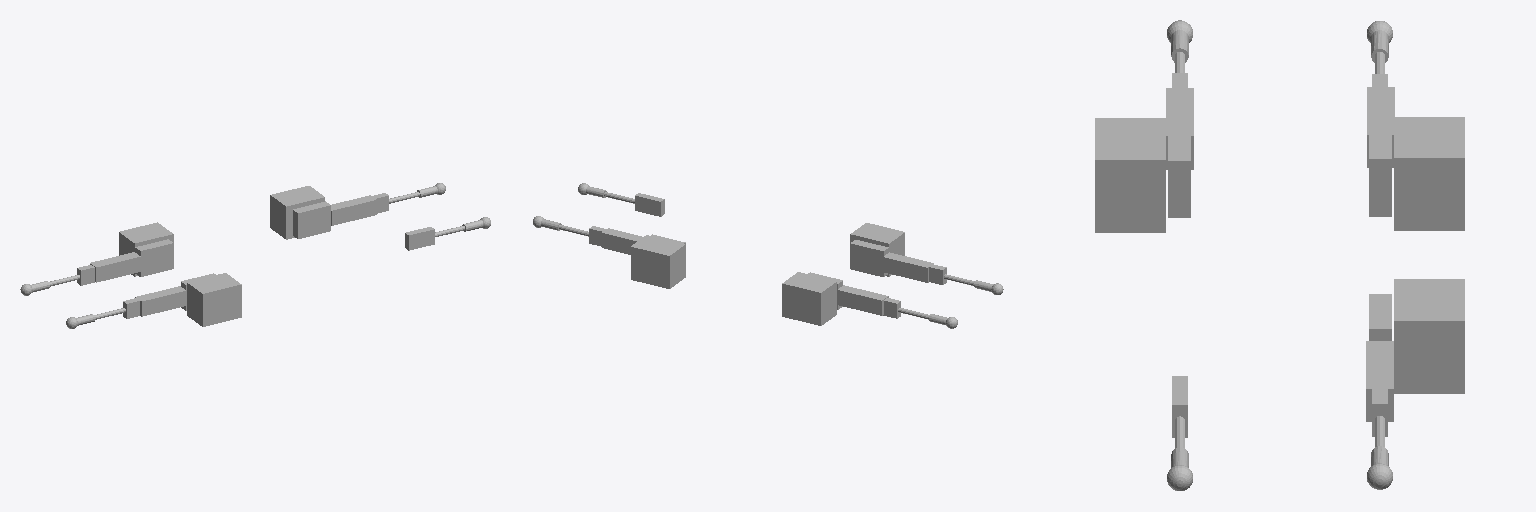
URDF robot description (ASTRo_urdf):
<?xml version="1.0" encoding="utf-8"?>
<!-- This URDF was automatically created by SolidWorks to URDF Exporter! Originally created by [author] ([email redacted]) 
     Commit Version: 1.6.0-1-g15f4949  Build Version: 1.6.7594.29634
     For more information, please see http://wiki.ros.org/sw_urdf_exporter -->
<robot
  name="ASTRo_urdf">
  <link
    name="base_link">
    <inertial>
      <origin
        xyz="0.0018303 -0.0022636 -0.024028"
        rpy="0 0 0" />
      <mass
        value="8.7385" />
      <inertia
        ixx="0.032841"
        ixy="2.8455E-08"
        ixz="5.1148E-07"
        iyy="0.030732"
        iyz="-1.2737E-05"
        izz="0.061662" />
    </inertial>
    <visual>
      <origin
        xyz="0 0 0"
        rpy="0 0 0" />
      <geometry>
        <mesh
          filename="package://ASTRo_urdf/collision_meshes/base_link.STL" />
      </geometry>
      <material
        name="">
        <color
          rgba="0.75294 0.75294 0.75294 1" />
      </material>
    </visual>
    <collision>
      <origin
        xyz="0 0 0"
        rpy="0 0 0" />
      <geometry>
        <mesh
          filename="package://ASTRo_urdf/collision_meshes/base_link.STL" />
      </geometry>
    </collision>
  </link>
  <link
    name="fl_hip">
    <inertial>
      <origin
        xyz="0.0531583210571163 0.0366039141275337 -0.0363361635572401"
        rpy="0 0 0" />
      <mass
        value="2.17455286863019" />
      <inertia
        ixx="0.00173280345342209"
        ixy="-6.19129847878754E-05"
        ixz="-1.21639437951916E-05"
        iyy="0.00206600212782451"
        iyz="6.94104691488328E-07"
        izz="0.00205370170154333" />
    </inertial>
    <visual>
      <origin
        xyz="0 0 0"
        rpy="0 0 0" />
      <geometry>
        <mesh
          filename="package://ASTRo_urdf/collision_meshes/fl_hip.STL" />
      </geometry>
      <material
        name="">
        <color
          rgba="0.752941176470588 0.752941176470588 0.752941176470588 1" />
      </material>
    </visual>
    <collision>
      <origin
        xyz="0 0 0"
        rpy="0 0 0" />
      <geometry>
        <mesh
          filename="package://ASTRo_urdf/collision_meshes/fl_hip.STL" />
      </geometry>
    </collision>
  </link>
  <joint
    name="fl_hip_yaw"
    type="revolute">
    <origin
      xyz="0.15121 0.15121 0"
      rpy="0 0 0" />
    <parent
      link="base_link" />
    <child
      link="fl_hip" />
    <axis
      xyz="0 0 1" />
    <limit
      lower="-0.7854"
      upper="1.5708"
      effort="40"
      velocity="1000" />
  </joint>
  <link
    name="fl_thigh">
    <inertial>
      <origin
        xyz="0.027738 -2.8924E-05 -0.048016"
        rpy="0 0 0" />
      <mass
        value="1.4824" />
      <inertia
        ixx="0.00087947"
        ixy="6.7403E-09"
        ixz="1.0751E-05"
        iyy="0.0011475"
        iyz="3.8014E-08"
        izz="0.0017228" />
    </inertial>
    <visual>
      <origin
        xyz="0 0 0"
        rpy="0 0 0" />
      <geometry>
        <mesh
          filename="package://ASTRo_urdf/collision_meshes/fl_thigh.STL" />
      </geometry>
      <material
        name="">
        <color
          rgba="0.75294 0.75294 0.75294 1" />
      </material>
    </visual>
    <collision>
      <origin
        xyz="0 0 0"
        rpy="0 0 0" />
      <geometry>
        <mesh
          filename="package://ASTRo_urdf/collision_meshes/fl_thigh.STL" />
      </geometry>
    </collision>
  </link>
  <joint
    name="fl_hip_pitch"
    type="revolute">
    <origin
      xyz="0.13 0.0755 -0.03875"
      rpy="-1.5708 0 0" />
    <parent
      link="fl_hip" />
    <child
      link="fl_thigh" />
    <axis
      xyz="0 0 1" />
    <limit
      lower="-1.5708"
      upper="1.5708"
      effort="40"
      velocity="1000" />
  </joint>
  <link
    name="fl_calf">
    <inertial>
      <origin
        xyz="0.31676 0.00044079 -0.07745"
        rpy="0 0 0" />
      <mass
        value="0.31062" />
      <inertia
        ixx="4.0837E-05"
        ixy="7.7987E-07"
        ixz="1.6622E-10"
        iyy="0.0002133"
        iyz="2.688E-10"
        izz="0.00022729" />
    </inertial>
    <visual>
      <origin
        xyz="0 0 0"
        rpy="0 0 0" />
      <geometry>
        <mesh
          filename="package://ASTRo_urdf/collision_meshes/fr_calf.STL" />
      </geometry>
      <material
        name="">
        <color
          rgba="0.75294 0.75294 0.75294 1" />
      </material>
    </visual>
    <collision>
      <origin
        xyz="0 0 0"
        rpy="0 0 0" />
      <geometry>
        <mesh
          filename="package://ASTRo_urdf/collision_meshes/fr_calf.STL" />
      </geometry>
    </collision>
  </link>
  <joint
    name="fl_knee_pitch"
    type="revolute">
    <origin
      xyz="0.222 0 -0.061"
      rpy="0 0 0" />
    <parent
      link="fl_thigh" />
    <child
      link="fl_calf" />
    <axis
      xyz="0 0 1" />
    <limit
      lower="-0.1"
      upper="2.3562"
      effort="40"
      velocity="1000" />
  </joint>
  <link
    name="fr_hip">
    <inertial>
      <origin
        xyz="0.0531763939958359 -0.03641981103807 -0.0363952498647838"
        rpy="0 0 0" />
      <mass
        value="2.18233968386848" />
      <inertia
        ixx="0.00173291318723781"
        ixy="6.12775165299127E-05"
        ixz="-1.21635823008675E-05"
        iyy="0.00206624802392487"
        iyz="6.94100265309046E-07"
        izz="0.00205394759437429" />
    </inertial>
    <visual>
      <origin
        xyz="0 0 0"
        rpy="0 0 0" />
      <geometry>
        <mesh
          filename="package://ASTRo_urdf/collision_meshes/fr_hip.STL" />
      </geometry>
      <material
        name="">
        <color
          rgba="0.752941176470588 0.752941176470588 0.752941176470588 1" />
      </material>
    </visual>
    <collision>
      <origin
        xyz="0 0 0"
        rpy="0 0 0" />
      <geometry>
        <mesh
          filename="package://ASTRo_urdf/collision_meshes/fr_hip.STL" />
      </geometry>
    </collision>
  </link>
  <joint
    name="fr_hip_yaw"
    type="revolute">
    <origin
      xyz="0.15121 -0.15121 0"
      rpy="0 0 0" />
    <parent
      link="base_link" />
    <child
      link="fr_hip" />
    <axis
      xyz="0 0 1" />
    <limit
      lower="-1.5708"
      upper="0.7854"
      effort="40"
      velocity="1000" />
  </joint>
  <link
    name="fr_thigh">
    <inertial>
      <origin
        xyz="0.0277372167220385 -0.000149652238160158 -0.0480163340760356"
        rpy="0 0 0" />
      <mass
        value="1.48239438165952" />
      <inertia
        ixx="0.000879475845940312"
        ixy="1.17351324544697E-06"
        ixz="1.07507726515436E-05"
        iyy="0.00114753637734785"
        iyz="-8.77874938440614E-09"
        izz="0.00172276896297423" />
    </inertial>
    <visual>
      <origin
        xyz="0 0 0"
        rpy="0 0 0" />
      <geometry>
        <mesh
          filename="package://ASTRo_urdf/collision_meshes/fr_thigh.STL" />
      </geometry>
      <material
        name="">
        <color
          rgba="0.752941176470588 0.752941176470588 0.752941176470588 1" />
      </material>
    </visual>
    <collision>
      <origin
        xyz="0 0 0"
        rpy="0 0 0" />
      <geometry>
        <mesh
          filename="package://ASTRo_urdf/collision_meshes/fr_thigh.STL" />
      </geometry>
    </collision>
  </link>
  <joint
    name="fr_hip_pitch"
    type="revolute">
    <origin
      xyz="0.13 -0.0755 -0.03875"
      rpy="1.5708 0 0" />
    <parent
      link="fr_hip" />
    <child
      link="fr_thigh" />
    <axis
      xyz="0 0 1" />
    <limit
      lower="-1.5708"
      upper="1.5708"
      effort="40"
      velocity="1000" />
  </joint>
  <link
    name="fr_calf">
    <inertial>
      <origin
        xyz="0.0948140635086356 -0.000614776009034035 -0.0165503017818016"
        rpy="0 0 0" />
      <mass
        value="0.310621805212083" />
      <inertia
        ixx="4.08365237189535E-05"
        ixy="-7.79868537659727E-07"
        ixz="-1.65503809227098E-10"
        iyy="0.00021330337430835"
        iyz="2.68862310727803E-10"
        izz="0.000227294886976432" />
    </inertial>
    <visual>
      <origin
        xyz="0 0 0"
        rpy="0 0 0" />
      <geometry>
        <mesh
          filename="package://ASTRo_urdf/collision_meshes/fr_calf.STL" />
      </geometry>
      <material
        name="">
        <color
          rgba="0.752941176470588 0.752941176470588 0.752941176470588 1" />
      </material>
    </visual>
    <collision>
      <origin
        xyz="0 0 0"
        rpy="0 0 0" />
      <geometry>
        <mesh
          filename="package://ASTRo_urdf/collision_meshes/fr_calf.STL" />
      </geometry>
    </collision>
  </link>
  <joint
    name="fr_knee_pitch"
    type="revolute">
    <origin
      xyz="0.22194 -0.00114 -0.061"
      rpy="0 0 -0.0043525" />
    <parent
      link="fr_thigh" />
    <child
      link="fr_calf" />
    <axis
      xyz="0 0 1" />
    <limit
      lower="-2.3562"
      upper="0.1"
      effort="40"
      velocity="1000" />
  </joint>
  <link
    name="rl_hip">
    <inertial>
      <origin
        xyz="0.0531763939958355 -0.0364198110380691 -0.036395249864784"
        rpy="0 0 0" />
      <mass
        value="2.18233968386848" />
      <inertia
        ixx="0.00173291318723781"
        ixy="6.12775165299124E-05"
        ixz="-1.21635823008672E-05"
        iyy="0.00206624802392487"
        iyz="6.94100265308955E-07"
        izz="0.00205394759437429" />
    </inertial>
    <visual>
      <origin
        xyz="0 0 0"
        rpy="0 0 0" />
      <geometry>
        <mesh
          filename="package://ASTRo_urdf/collision_meshes/rl_hip.STL" />
      </geometry>
      <material
        name="">
        <color
          rgba="0.752941176470588 0.752941176470588 0.752941176470588 1" />
      </material>
    </visual>
    <collision>
      <origin
        xyz="0 0 0"
        rpy="0 0 0" />
      <geometry>
        <mesh
          filename="package://ASTRo_urdf/collision_meshes/rl_hip.STL" />
      </geometry>
    </collision>
  </link>
  <joint
    name="rl_hip_yaw"
    type="revolute">
    <origin
      xyz="-0.15121 0.15121 0"
      rpy="0 0 3.1416" />
    <parent
      link="base_link" />
    <child
      link="rl_hip" />
    <axis
      xyz="0 0 1" />
    <limit
      lower="-1.5708"
      upper="0.7854"
      effort="40"
      velocity="1000" />
  </joint>
  <link
    name="rl_thigh">
    <inertial>
      <origin
        xyz="0.0277376055025215 -2.89239417923803E-05 -0.0480163343184047"
        rpy="0 0 0" />
      <mass
        value="1.48239439114501" />
      <inertia
        ixx="0.000879470709552469"
        ixy="6.74033378943963E-09"
        ixz="1.07507095507878E-05"
        iyy="0.00114754151657931"
        iyz="3.80142785229693E-08"
        izz="0.00172276896468826" />
    </inertial>
    <visual>
      <origin
        xyz="0 0 0"
        rpy="0 0 0" />
      <geometry>
        <mesh
          filename="package://ASTRo_urdf/collision_meshes/rl_thigh.STL" />
      </geometry>
      <material
        name="">
        <color
          rgba="0.752941176470588 0.752941176470588 0.752941176470588 1" />
      </material>
    </visual>
    <collision>
      <origin
        xyz="0 0 0"
        rpy="0 0 0" />
      <geometry>
        <mesh
          filename="package://ASTRo_urdf/collision_meshes/rl_thigh.STL" />
      </geometry>
    </collision>
  </link>
  <joint
    name="rl_hip_pitch"
    type="revolute">
    <origin
      xyz="0.13 -0.0755 -0.03875"
      rpy="1.5708 0 0" />
    <parent
      link="rl_hip" />
    <child
      link="rl_thigh" />
    <axis
      xyz="0 0 1" />
    <limit
      lower="-1.5708"
      upper="1.5708"
      effort="40"
      velocity="1000" />
  </joint>
  <link
    name="rl_calf">
    <inertial>
      <origin
        xyz="0.0948140624508792 0.000614775850863336 -0.0164496981749044"
        rpy="0 0 0" />
      <mass
        value="0.310621800156452" />
      <inertia
        ixx="4.08365242898525E-05"
        ixy="7.79868437361702E-07"
        ixz="1.66215196374788E-10"
        iyy="0.000213303367897618"
        iyz="2.68800644674563E-10"
        izz="0.000227294880780061" />
    </inertial>
    <visual>
      <origin
        xyz="0 0 0"
        rpy="0 0 0" />
      <geometry>
        <mesh
          filename="package://ASTRo_urdf/collision_meshes/rl_calf.STL" />
      </geometry>
      <material
        name="">
        <color
          rgba="0.752941176470588 0.752941176470588 0.752941176470588 1" />
      </material>
    </visual>
    <collision>
      <origin
        xyz="0 0 0"
        rpy="0 0 0" />
      <geometry>
        <mesh
          filename="package://ASTRo_urdf/collision_meshes/rl_calf.STL" />
      </geometry>
    </collision>
  </link>
  <joint
    name="rl_knee_pitch"
    type="revolute">
    <origin
      xyz="0.22194 -0.00017398 -0.061"
      rpy="0 0 0" />
    <parent
      link="rl_thigh" />
    <child
      link="rl_calf" />
    <axis
      xyz="0 0 1" />
    <limit
      lower="-2.3562"
      upper="0.1"
      effort="40"
      velocity="1000" />
  </joint>
  <link
    name="rr_hip">
    <inertial>
      <origin
        xyz="0.0531583210571163 0.0366039141275338 -0.0363361635572398"
        rpy="0 0 0" />
      <mass
        value="2.17455286863019" />
      <inertia
        ixx="0.00173280345342208"
        ixy="-6.19129847878762E-05"
        ixz="-1.2163943795192E-05"
        iyy="0.00206600212782451"
        iyz="6.9410469148802E-07"
        izz="0.00205370170154332" />
    </inertial>
    <visual>
      <origin
        xyz="0 0 0"
        rpy="0 0 0" />
      <geometry>
        <mesh
          filename="package://ASTRo_urdf/collision_meshes/rr_hip.STL" />
      </geometry>
      <material
        name="">
        <color
          rgba="0.752941176470588 0.752941176470588 0.752941176470588 1" />
      </material>
    </visual>
    <collision>
      <origin
        xyz="0 0 0"
        rpy="0 0 0" />
      <geometry>
        <mesh
          filename="package://ASTRo_urdf/collision_meshes/rr_hip.STL" />
      </geometry>
    </collision>
  </link>
  <joint
    name="rr_hip_yaw"
    type="revolute">
    <origin
      xyz="-0.15121 -0.15121 0"
      rpy="0 0 3.1416" />
    <parent
      link="base_link" />
    <child
      link="rr_hip" />
    <axis
      xyz="0 0 1" />
    <limit
      lower="-0.7854"
      upper="1.5708"
      effort="40"
      velocity="1000" />
  </joint>
  <link
    name="rr_thigh">
    <inertial>
      <origin
        xyz="0.0277376055953963 -2.89239103958838E-05 -0.0480163341374775"
        rpy="0 0 0" />
      <mass
        value="1.48239438395037" />
      <inertia
        ixx="0.000879470708893672"
        ixy="6.74027458555017E-09"
        ixz="1.07507093818394E-05"
        iyy="0.00114754151588376"
        iyz="3.80143535091579E-08"
        izz="0.00172276896466383" />
    </inertial>
    <visual>
      <origin
        xyz="0 0 0"
        rpy="0 0 0" />
      <geometry>
        <mesh
          filename="package://ASTRo_urdf/collision_meshes/rr_thigh.STL" />
      </geometry>
      <material
        name="">
        <color
          rgba="0.752941176470588 0.752941176470588 0.752941176470588 1" />
      </material>
    </visual>
    <collision>
      <origin
        xyz="0 0 0"
        rpy="0 0 0" />
      <geometry>
        <mesh
          filename="package://ASTRo_urdf/collision_meshes/rr_thigh.STL" />
      </geometry>
    </collision>
  </link>
  <joint
    name="rr_hip_pitch"
    type="revolute">
    <origin
      xyz="0.13 0.0755 -0.03875"
      rpy="-1.5708 0 0" />
    <parent
      link="rr_hip" />
    <child
      link="rr_thigh" />
    <axis
      xyz="0 0 1" />
    <limit
      lower="-1.5708"
      upper="1.5708"
      effort="40"
      velocity="1000" />
  </joint>
  <link
    name="rr_calf">
    <inertial>
      <origin
        xyz="0.0948140623926746 0.000614775847208981 -0.0164496981767596"
        rpy="0 0 0" />
      <mass
        value="0.310621799877947" />
      <inertia
        ixx="4.08365242945811E-05"
        ixy="7.79868417963329E-07"
        ixz="1.66211905736855E-10"
        iyy="0.000213303367890616"
        iyz="2.68796940480024E-10"
        izz="0.00022729488077842" />
    </inertial>
    <visual>
      <origin
        xyz="0 0 0"
        rpy="0 0 0" />
      <geometry>
        <mesh
          filename="package://ASTRo_urdf/collision_meshes/rr_calf.STL" />
      </geometry>
      <material
        name="">
        <color
          rgba="0.752941176470588 0.752941176470588 0.752941176470588 1" />
      </material>
    </visual>
    <collision>
      <origin
        xyz="0 0 0"
        rpy="0 0 0" />
      <geometry>
        <mesh
          filename="package://ASTRo_urdf/collision_meshes/rr_calf.STL" />
      </geometry>
    </collision>
  </link>
  <joint
    name="rr_knee_pitch"
    type="revolute">
    <origin
      xyz="0.22194 -0.00017398 -0.061"
      rpy="0 0 0" />
    <parent
      link="rr_thigh" />
    <child
      link="rr_calf" />
    <axis
      xyz="0 0 1" />
    <limit
      lower="-0.1"
      upper="2.3562"
      effort="40"
      velocity="1000" />
  </joint>

  <transmission name="fl_hip_yaw_trans" type="pr2_mechanism_model/SimpleTransmission">
    <actuator name="fl_hip_yaw_motor"/>
    <joint name="fl_hip_yaw"/>
    <mechanicalReduction>1</mechanicalReduction>
  </transmission>

  <transmission name="fl_hip_pitch_trans" type="pr2_mechanism_model/SimpleTransmission">
    <actuator name="fl_hip_pitch_motor"/>
    <joint name="fl_hip_pitch"/>
    <mechanicalReduction>1</mechanicalReduction>
  </transmission>

  <transmission name="fl_knee_pitch_trans" type="pr2_mechanism_model/SimpleTransmission">
    <actuator name="fl_knee_pitch_motor"/>
    <joint name="fl_knee_pitch"/>
    <mechanicalReduction>1</mechanicalReduction>
  </transmission>

  <transmission name="fr_hip_yaw_trans" type="pr2_mechanism_model/SimpleTransmission">
    <actuator name="fr_hip_yaw_motor"/>
    <joint name="fr_hip_yaw"/>
    <mechanicalReduction>1</mechanicalReduction>
  </transmission>

  <transmission name="fr_hip_pitch_trans" type="pr2_mechanism_model/SimpleTransmission">
    <actuator name="fr_hip_pitch_motor"/>
    <joint name="fr_hip_pitch"/>
    <mechanicalReduction>1</mechanicalReduction>
  </transmission>

  <transmission name="fr_knee_pitch_trans" type="pr2_mechanism_model/SimpleTransmission">
    <actuator name="fr_knee_pitch_motor"/>
    <joint name="fr_knee_pitch"/>
    <mechanicalReduction>1</mechanicalReduction>
  </transmission>

  <transmission name="rl_hip_yaw_trans" type="pr2_mechanism_model/SimpleTransmission">
    <actuator name="rl_hip_yaw_motor"/>
    <joint name="rl_hip_yaw"/>
    <mechanicalReduction>1</mechanicalReduction>
  </transmission>

  <transmission name="rl_hip_pitch_trans" type="pr2_mechanism_model/SimpleTransmission">
    <actuator name="rl_hip_pitch_motor"/>
    <joint name="rl_hip_pitch"/>
    <mechanicalReduction>1</mechanicalReduction>
  </transmission>

  <transmission name="rl_knee_pitch_trans" type="pr2_mechanism_model/SimpleTransmission">
    <actuator name="rl_knee_pitch_motor"/>
    <joint name="rl_knee_pitch"/>
    <mechanicalReduction>1</mechanicalReduction>
  </transmission>

  <transmission name="rr_hip_yaw_trans" type="pr2_mechanism_model/SimpleTransmission">
    <actuator name="rr_hip_yaw_motor"/>
    <joint name="rr_hip_yaw"/>
    <mechanicalReduction>1</mechanicalReduction>
  </transmission>

  <transmission name="rr_hip_pitch_trans" type="pr2_mechanism_model/SimpleTransmission">
    <actuator name="rr_hip_pitch_motor"/>
    <joint name="rr_hip_pitch"/>
    <mechanicalReduction>1</mechanicalReduction>
  </transmission>

  <transmission name="rr_knee_pitch_trans" type="pr2_mechanism_model/SimpleTransmission">
    <actuator name="rr_knee_pitch_motor"/>
    <joint name="rr_knee_pitch"/>
    <mechanicalReduction>1</mechanicalReduction>
  </transmission>

</robot>

--- Render facts (derived) ---
Views: 3 orthographic renders of the robot side by side, from view 1: azimuth 30°, elevation 25°; view 2: azimuth 150°, elevation 25°; view 3: azimuth 270°, elevation 25°.
Model ASTRo_urdf with 13 links and 12 joints (12 revolute), rooted at base_link, posed all joints at 0.
Links seen in each view (by area): view 1: rr_hip, fl_thigh, rl_thigh, fl_hip, rr_thigh, rl_hip, fr_calf, rr_calf, rl_calf, fl_calf; view 2: rl_hip, fl_hip, rr_thigh, rl_thigh, rr_hip, fr_calf, rr_calf, fl_thigh, rl_calf, fl_calf; view 3: fl_hip, rr_hip, rl_hip, rl_thigh, rr_thigh, fl_thigh, fr_calf, fl_calf, rr_calf, rl_calf.
Boxes of the visible links, bbox=[...] form: rr_hip: bbox=[187, 273, 241, 326]; fl_thigh: bbox=[293, 195, 376, 238]; rl_thigh: bbox=[90, 239, 173, 282]; fl_hip: bbox=[270, 186, 324, 239]; rr_thigh: bbox=[135, 273, 215, 316]; rl_hip: bbox=[119, 222, 173, 276]; fr_calf: bbox=[405, 217, 490, 250]; rr_calf: bbox=[66, 295, 152, 328]; rl_calf: bbox=[20, 265, 94, 295]; fl_calf: bbox=[360, 183, 445, 213]; rl_hip: bbox=[782, 272, 836, 325]; fl_hip: bbox=[631, 235, 685, 288]; rr_thigh: bbox=[850, 240, 933, 282]; rl_thigh: bbox=[808, 272, 888, 315]; rr_hip: bbox=[850, 223, 904, 276]; fr_calf: bbox=[578, 183, 664, 216]; rr_calf: bbox=[917, 261, 1003, 294]; fl_thigh: bbox=[602, 228, 685, 254]; rl_calf: bbox=[883, 298, 957, 328]; fl_calf: bbox=[533, 216, 617, 246]; fl_hip: bbox=[1394, 279, 1464, 393]; rr_hip: bbox=[1095, 118, 1165, 232]; rl_hip: bbox=[1394, 117, 1464, 230]; rl_thigh: bbox=[1367, 87, 1394, 216]; rr_thigh: bbox=[1166, 88, 1193, 217]; fl_thigh: bbox=[1366, 294, 1393, 421]; fr_calf: bbox=[1167, 376, 1192, 490]; fl_calf: bbox=[1367, 376, 1392, 489]; rr_calf: bbox=[1167, 20, 1192, 100]; rl_calf: bbox=[1367, 21, 1392, 86].
Bounding box of the posed robot: 1.6 × 0.5514 × 0.1223 m (x, y, z).
Meshes: 12 distinct files referenced, 10 mesh visuals loaded (9 binary STL); not drawn: 3 (reference not matched to a file when rendering).